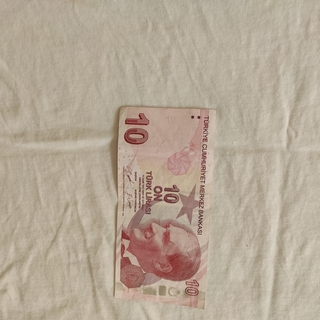10TLFront: (113, 104, 218, 310)
